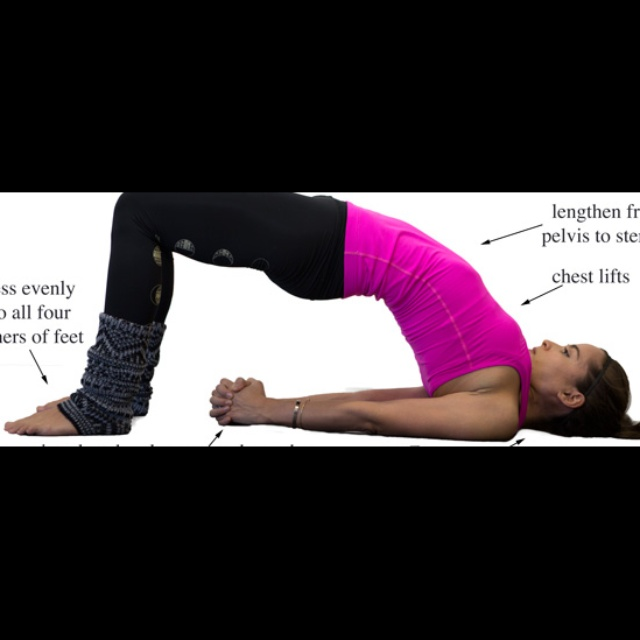Bridge_Pose: (3, 190, 640, 443)
